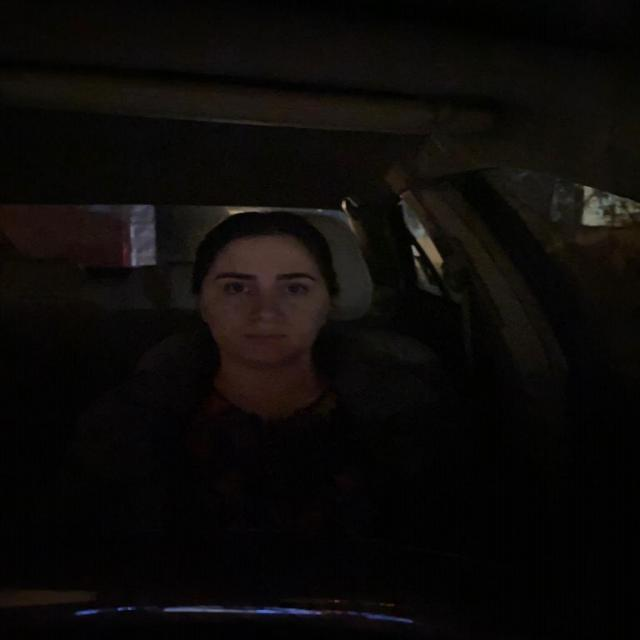person: (184, 209, 345, 384)
